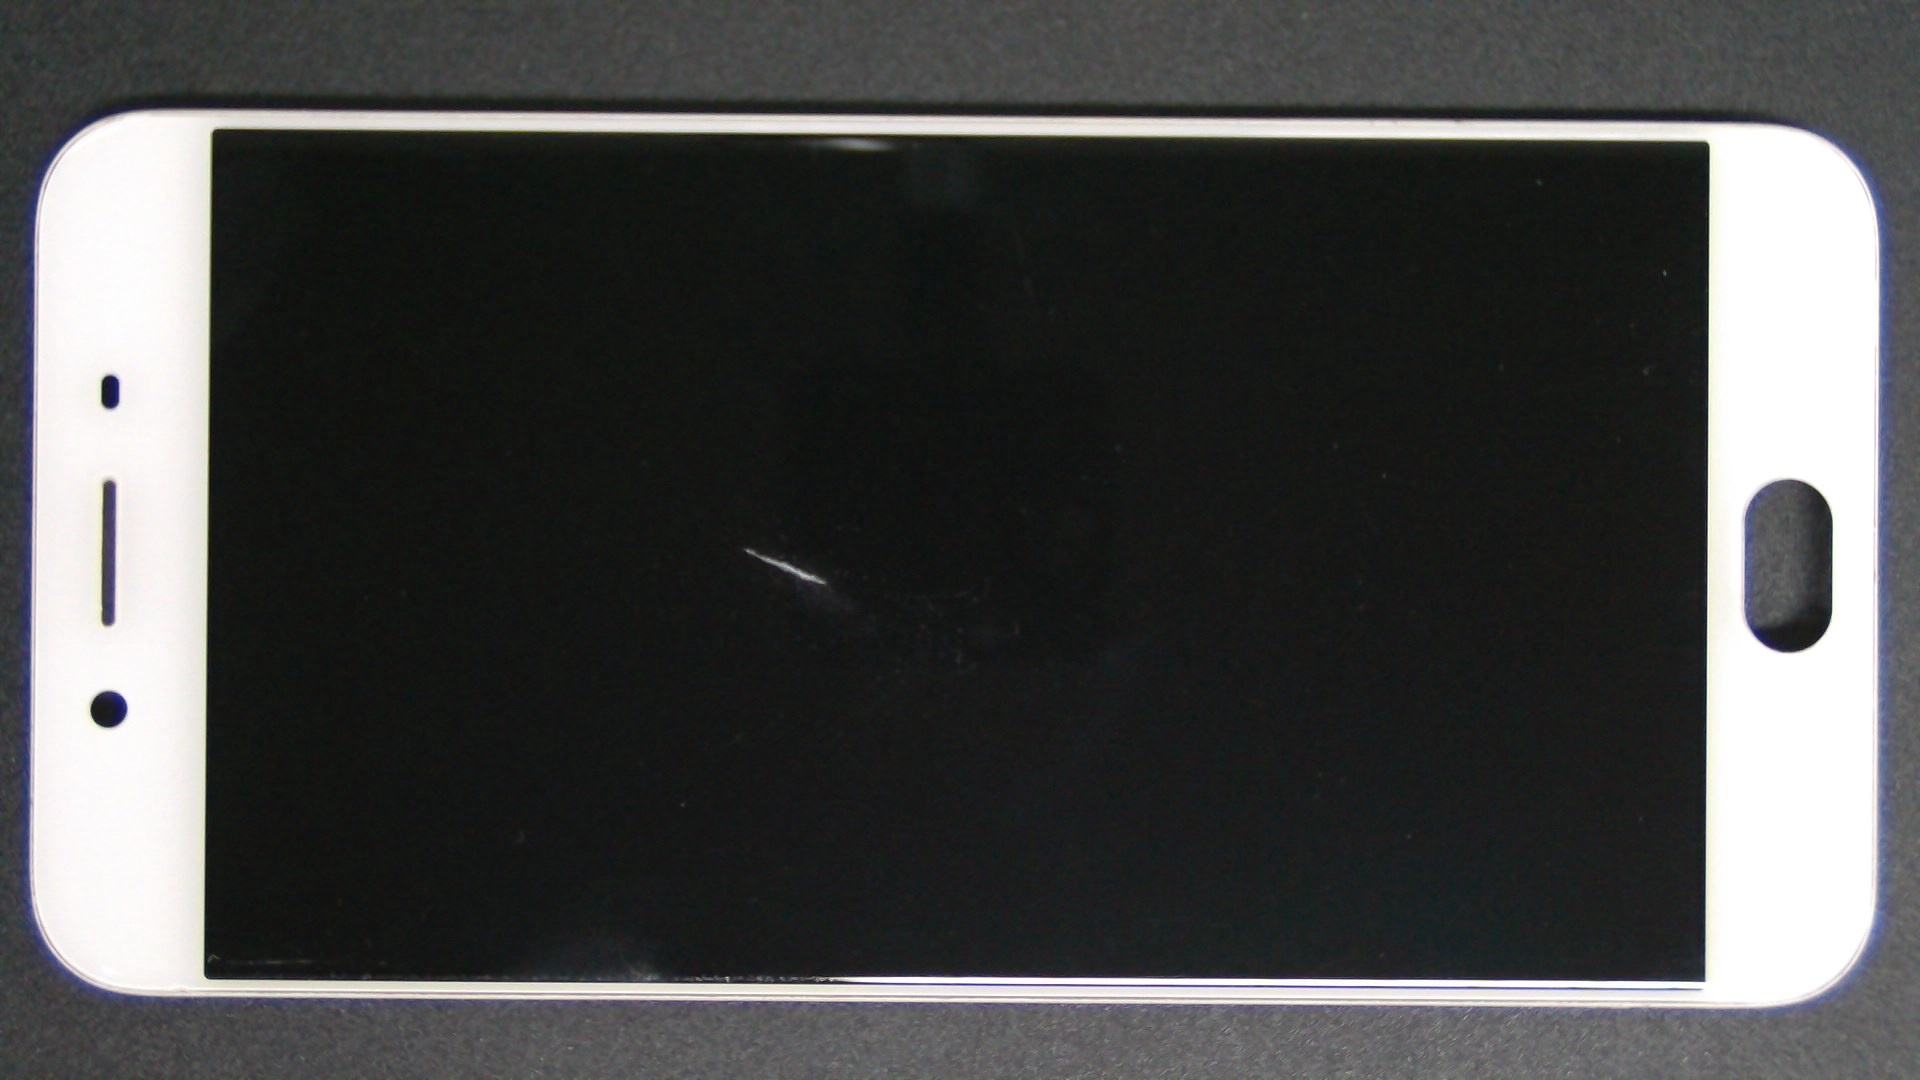oil: (377, 273, 1127, 822)
